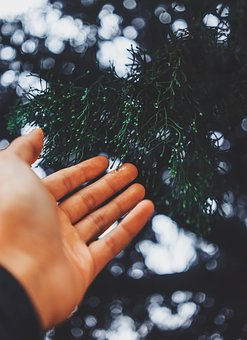palm: (25, 185, 99, 290)
